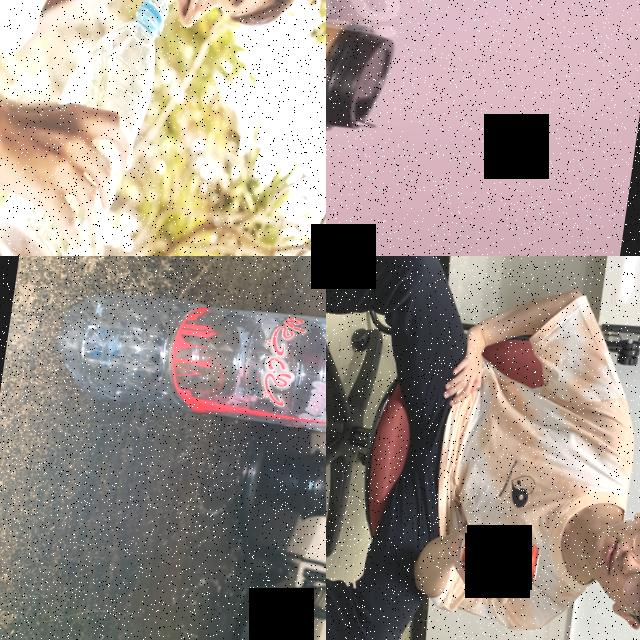bottle: (46, 264, 326, 492), (0, 0, 171, 256)
can: (456, 526, 542, 588)
cup: (326, 0, 396, 139)
